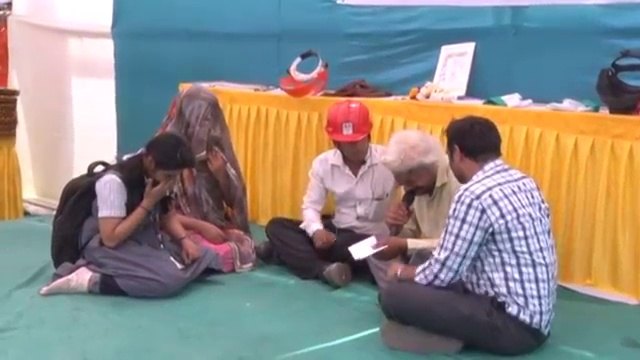helmet: (321, 103, 372, 145)
helmet_off: (442, 114, 508, 189), (168, 87, 227, 167), (384, 131, 444, 206), (128, 130, 195, 190)
helmet_on: (323, 106, 376, 172)
person: (370, 115, 562, 348), (41, 131, 220, 299), (265, 98, 402, 284), (150, 83, 254, 269), (364, 133, 459, 284)
